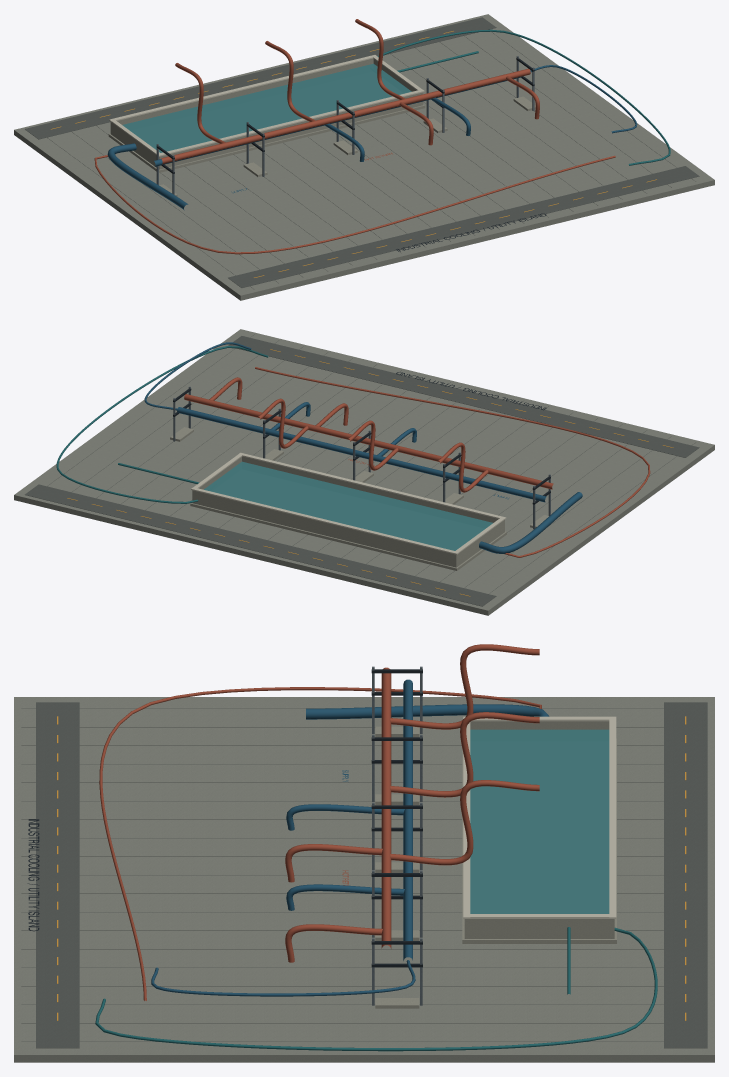
File: cooling-site.0561a4dcc6b4.glb
3 views of the same model, one above another, from view 1: azimuth 30°, elevation 25°; view 2: azimuth 150°, elevation 25°; view 3: azimuth 270°, elevation 25° (orthographic). The views are drawn at different scales.
Visible parts, largest first — view 1: structure_paving_00110, structure_slab_00111, bounded_free_surface_00063, structure_warm_00116, structure_concrete_00113, structure_cream_00114, structure_blue_00115, structure_teal_00119, structure_steel_00117, structure_dark_00118, structure_yellow_00112; view 2: structure_paving_00110, structure_slab_00111, bounded_free_surface_00063, structure_concrete_00113, structure_warm_00116, structure_blue_00115, structure_cream_00114, structure_teal_00119, structure_steel_00117, structure_dark_00118; view 3: structure_paving_00110, structure_slab_00111, bounded_free_surface_00063, structure_warm_00116, structure_blue_00115, structure_concrete_00113, structure_cream_00114, structure_teal_00119, structure_dark_00118, structure_steel_00117.
Part boxes in pixels (box(x1,y1,x2,y2)): structure_paving_00110: box(14, 14, 714, 300); structure_slab_00111: box(25, 17, 699, 289); bounded_free_surface_00063: box(122, 63, 411, 152); structure_warm_00116: box(94, 19, 615, 254); structure_concrete_00113: box(108, 58, 535, 196); structure_cream_00114: box(109, 55, 424, 156); structure_blue_00115: box(107, 65, 637, 210); structure_teal_00119: box(377, 29, 670, 165); structure_steel_00117: box(156, 56, 534, 194); structure_dark_00118: box(156, 58, 546, 251); structure_yellow_00112: box(51, 31, 656, 277); structure_paving_00110: box(14, 329, 714, 615); structure_slab_00111: box(25, 334, 699, 606); bounded_free_surface_00063: box(204, 461, 492, 550); structure_concrete_00113: box(170, 427, 548, 570); structure_warm_00116: box(184, 367, 650, 557); structure_blue_00115: box(144, 342, 582, 553); structure_cream_00114: box(191, 452, 506, 554); structure_teal_00119: box(56, 346, 268, 503); structure_steel_00117: box(173, 386, 550, 529); structure_dark_00118: box(173, 372, 550, 504); structure_paving_00110: box(14, 697, 714, 1062); structure_slab_00111: box(21, 702, 707, 1048); bounded_free_surface_00063: box(470, 729, 609, 913); structure_warm_00116: box(99, 644, 541, 1000); structure_blue_00115: box(151, 679, 549, 996); structure_concrete_00113: box(375, 721, 616, 1008); structure_cream_00114: box(463, 716, 616, 918); structure_teal_00119: box(95, 927, 657, 1051); structure_dark_00118: box(27, 669, 422, 967); structure_steel_00117: box(372, 666, 422, 1005).
Size of the model in its own units: 59.14 by 10.61 by 48.
Materials: 11 (5 with a texture image).
